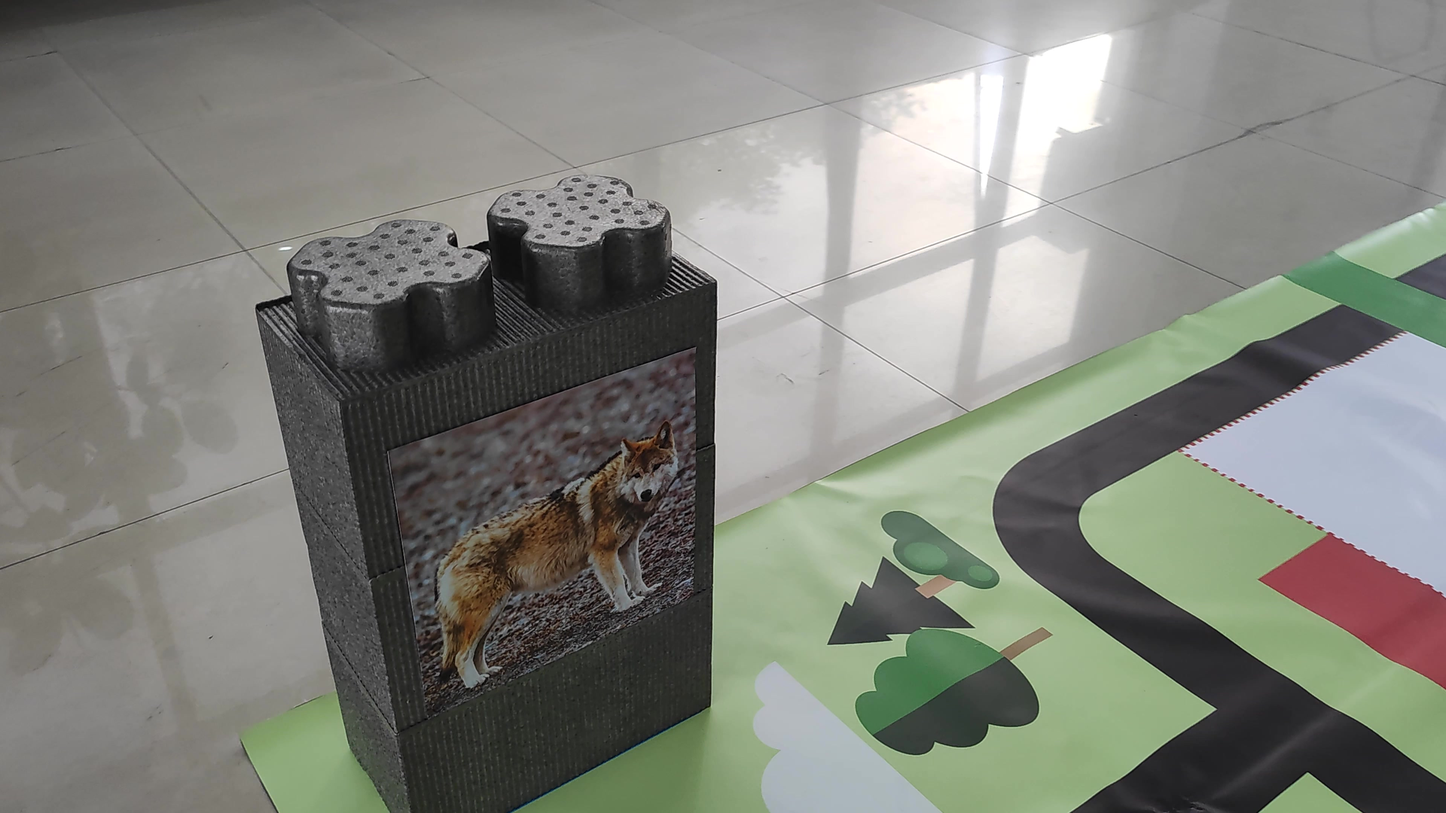wolf: (407, 417, 676, 688)
